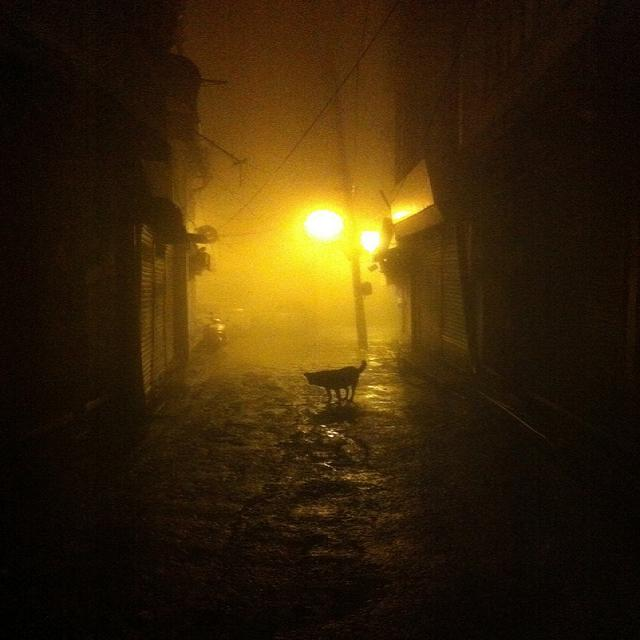dog: (263, 310, 377, 428)
